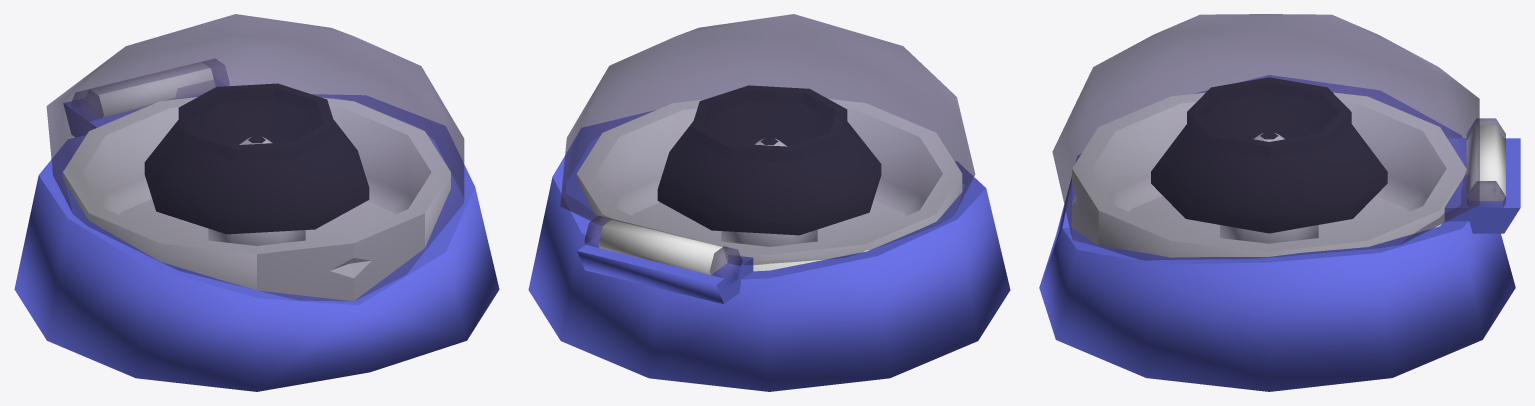
Rendered from ensinbunriki_M.fbx.
3 renders of one model, left to right at view 1: azimuth 30°, elevation 25°; view 2: azimuth 150°, elevation 25°; view 3: azimuth 270°, elevation 25°, orthographic. The views are drawn at different scales.
Visible parts, largest first — view 1: cover, outbody_blue, inbody_white, roter, setuzoku, jiku_white; view 2: cover, outbody_blue, roter, inbody_white, setuzoku, jiku_white; view 3: cover, outbody_blue, inbody_white, roter, setuzoku, jiku_white.
Boxes of the visible parts, bbox=[...] form: cover: bbox=[46, 14, 464, 300]; outbody_blue: bbox=[14, 94, 499, 391]; inbody_white: bbox=[63, 97, 450, 300]; roter: bbox=[144, 83, 369, 234]; setuzoku: bbox=[63, 62, 224, 137]; jiku_white: bbox=[208, 228, 305, 245]; cover: bbox=[560, 14, 975, 284]; outbody_blue: bbox=[528, 110, 1010, 391]; roter: bbox=[657, 85, 881, 235]; inbody_white: bbox=[576, 99, 962, 271]; setuzoku: bbox=[577, 219, 753, 303]; jiku_white: bbox=[721, 230, 817, 246]; cover: bbox=[1052, 14, 1505, 260]; outbody_blue: bbox=[1039, 75, 1515, 391]; inbody_white: bbox=[1072, 92, 1466, 257]; roter: bbox=[1151, 77, 1387, 233]; setuzoku: bbox=[1444, 125, 1520, 233]; jiku_white: bbox=[1220, 225, 1318, 243].
Size of the model in its own units: 30 by 16.93 by 29.3.
